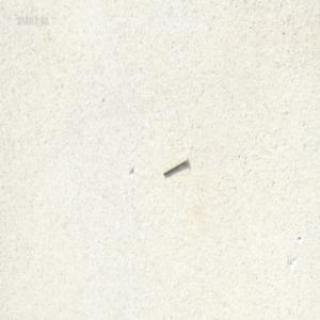Bolttrack_idkeyframe: (161, 154, 187, 175)
